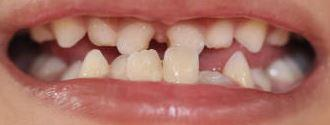Hypodontia: (194, 55, 229, 78)
